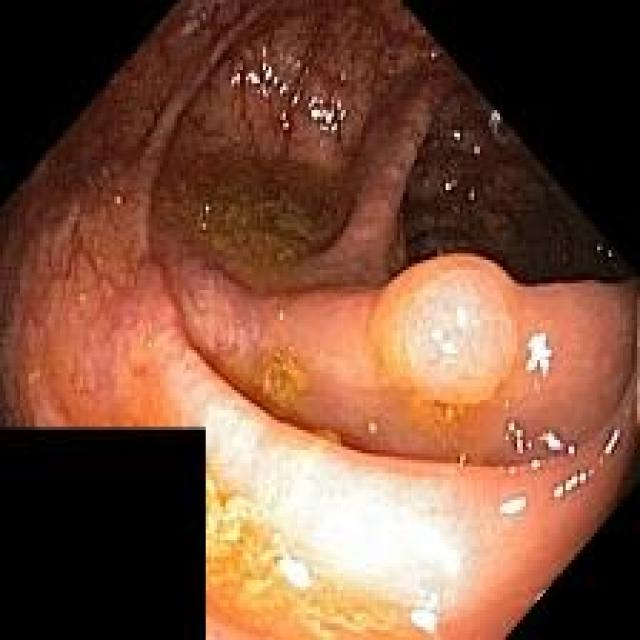Polyps: (371, 257, 518, 405)
